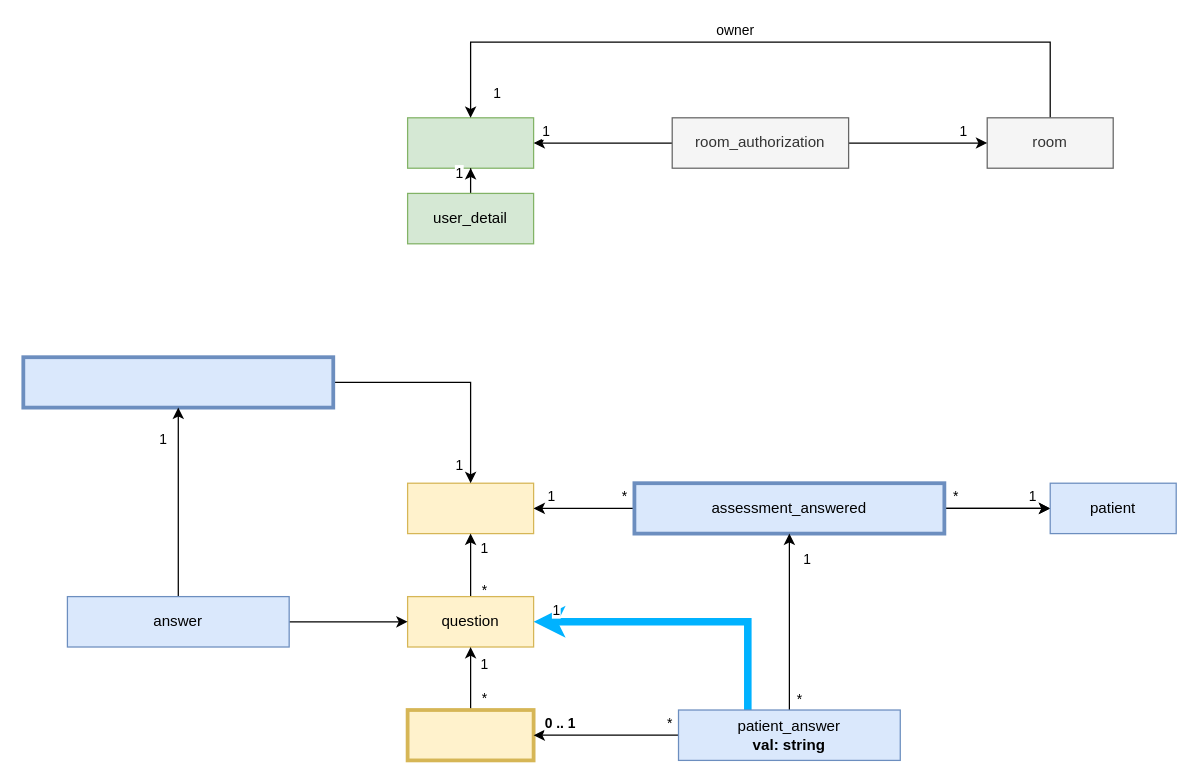
This 1198x784 diagram has some shape labels left out. Each missing label, with the box of its shape:
assessment: (406, 482, 534, 534)
choice: (405, 707, 535, 762)
evaluation _answered: (21, 355, 335, 409)
user: (406, 117, 534, 168)
